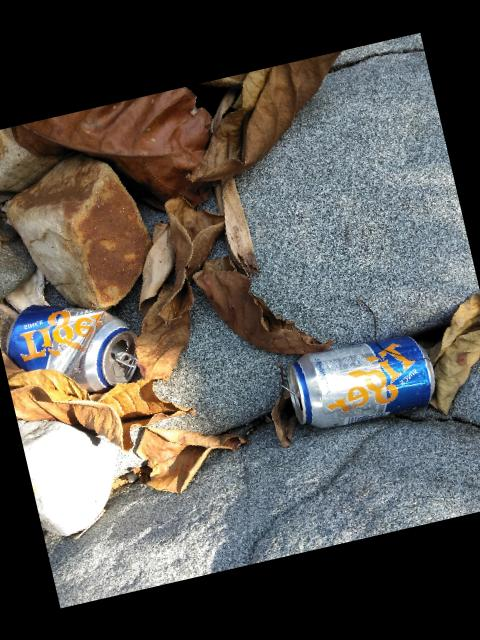metal: (287, 336, 434, 427), (6, 305, 136, 392)
